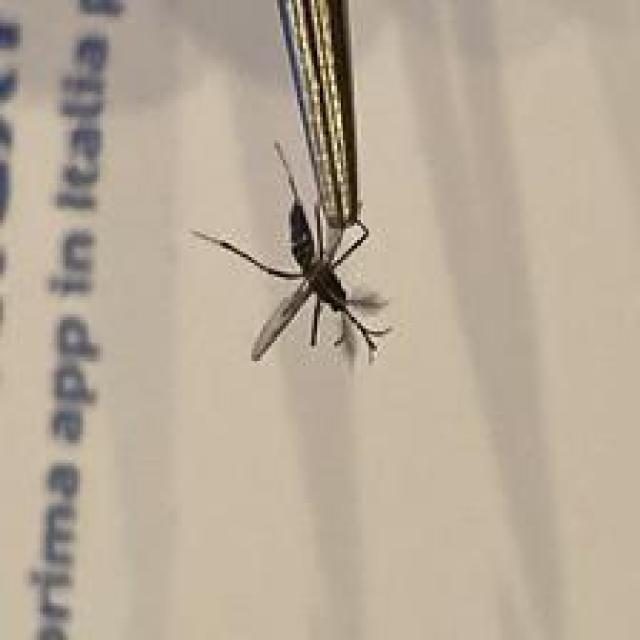Aedes albopictus: (189, 0, 394, 366)
